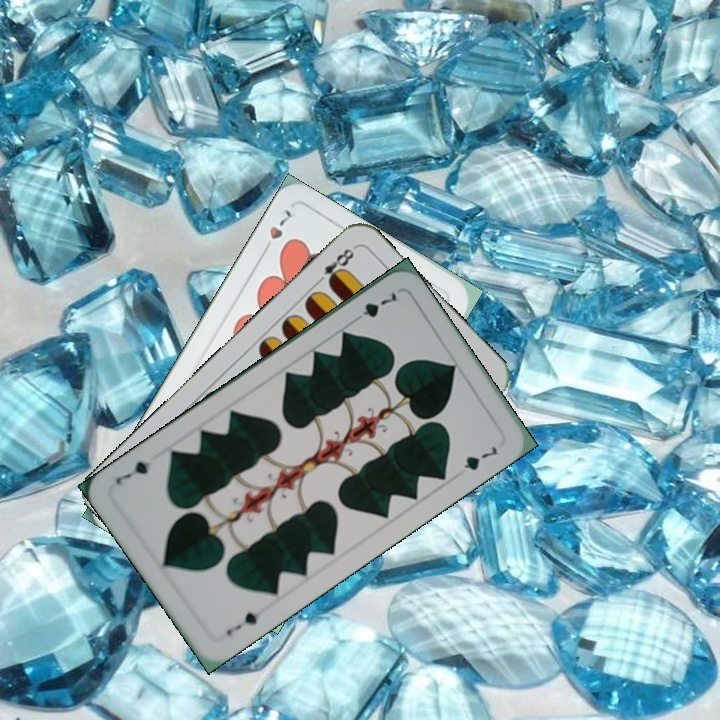E8: (311, 243, 359, 289)
G7: (348, 287, 400, 326), (222, 608, 261, 639)
H7: (260, 205, 294, 257)
